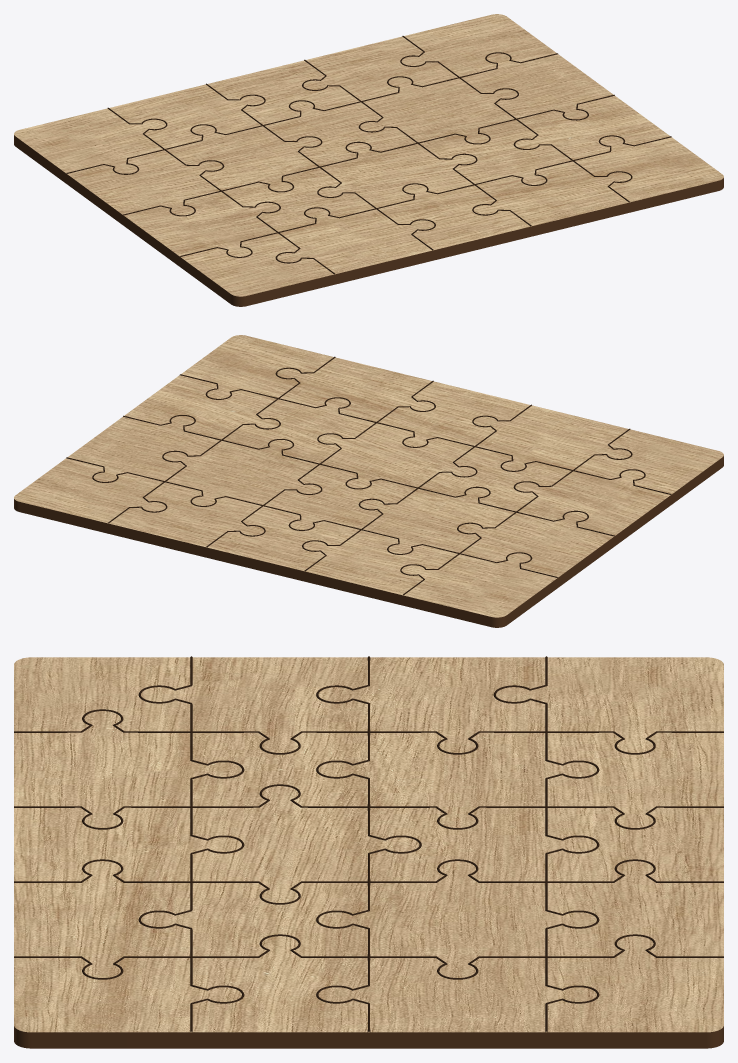
File: jigsaw.glb
3 renders of one model, top to bottom at view 1: azimuth 30°, elevation 25°; view 2: azimuth 150°, elevation 25°; view 3: azimuth 270°, elevation 25°, orthographic. The views are drawn at different scales.
Parts seen in each view (by area): view 1: body0, cutline0; view 2: body0, cutline0; view 3: body0, cutline0.
Boxes of the visible parts, x1,y1,x2,y2 form: body0: (14, 14, 723, 306); cutline0: (66, 36, 671, 274); body0: (14, 335, 723, 627); cutline0: (66, 356, 671, 595); body0: (14, 657, 723, 1048); cutline0: (14, 656, 723, 1031).
Bounding box in the file's own units: 0.15 × 0.00317 × 0.12.
Materials: 3 (1 with a texture image).
